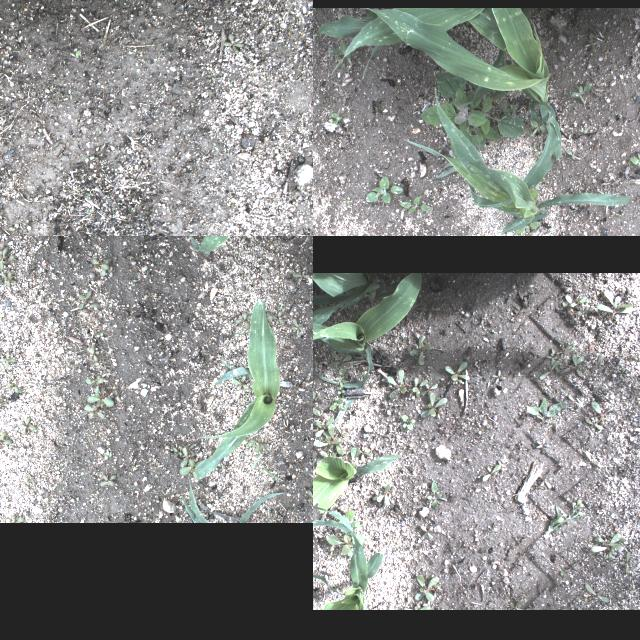crop: (401, 90, 634, 234), (313, 8, 554, 107), (193, 302, 279, 478), (313, 273, 420, 388), (313, 488, 382, 609), (313, 274, 396, 354), (313, 455, 401, 514), (199, 493, 285, 523), (180, 478, 210, 522), (186, 236, 266, 252), (333, 398, 355, 426)
weed: (419, 68, 527, 154), (546, 499, 588, 537), (596, 288, 632, 320), (366, 174, 404, 203), (524, 397, 566, 423), (314, 424, 346, 454), (585, 398, 613, 430), (590, 534, 626, 558), (326, 535, 364, 557), (419, 392, 446, 418), (398, 195, 432, 215), (414, 574, 438, 602), (408, 335, 429, 365), (221, 30, 245, 56), (556, 354, 584, 376), (386, 368, 406, 398), (444, 362, 470, 384), (426, 481, 446, 509), (86, 390, 114, 408), (569, 84, 593, 104), (337, 510, 361, 530), (84, 374, 104, 396), (586, 583, 608, 603), (330, 352, 350, 374), (546, 346, 570, 364), (482, 460, 501, 482), (539, 360, 559, 380), (372, 485, 391, 505), (561, 294, 587, 308), (180, 459, 198, 479), (262, 466, 284, 482), (82, 403, 104, 419), (76, 289, 92, 311), (250, 443, 262, 472), (0, 246, 15, 269), (234, 310, 253, 328), (314, 418, 332, 437), (412, 377, 428, 398), (18, 417, 36, 435), (316, 448, 336, 464), (620, 552, 634, 574), (246, 437, 264, 453), (586, 450, 602, 468), (589, 352, 603, 372), (420, 303, 440, 317), (352, 446, 372, 460), (629, 153, 640, 177), (0, 431, 13, 451), (65, 48, 81, 64), (326, 110, 342, 126), (536, 473, 552, 489), (0, 270, 14, 288), (420, 384, 438, 398), (328, 396, 346, 410), (90, 258, 110, 270), (0, 352, 14, 369), (401, 414, 415, 431), (232, 376, 248, 390), (99, 474, 115, 488), (419, 525, 433, 541), (345, 308, 361, 322), (179, 448, 189, 468), (100, 256, 110, 276), (290, 272, 310, 282), (292, 318, 302, 338), (492, 369, 506, 383), (560, 563, 576, 575), (507, 598, 523, 610), (272, 310, 284, 324), (88, 346, 98, 362), (564, 148, 576, 160), (81, 302, 99, 310), (313, 391, 319, 415), (6, 383, 20, 393), (535, 438, 549, 448), (183, 444, 193, 456), (172, 446, 182, 458), (10, 515, 24, 523), (404, 606, 430, 610), (264, 310, 274, 320), (616, 367, 626, 377), (316, 412, 326, 422), (338, 376, 348, 386), (306, 490, 313, 502), (22, 477, 28, 491), (28, 473, 34, 487), (350, 447, 356, 461), (631, 353, 640, 362), (102, 451, 110, 461), (66, 88, 72, 99), (0, 399, 6, 408), (34, 128, 40, 134), (342, 200, 350, 204), (336, 390, 344, 394)
